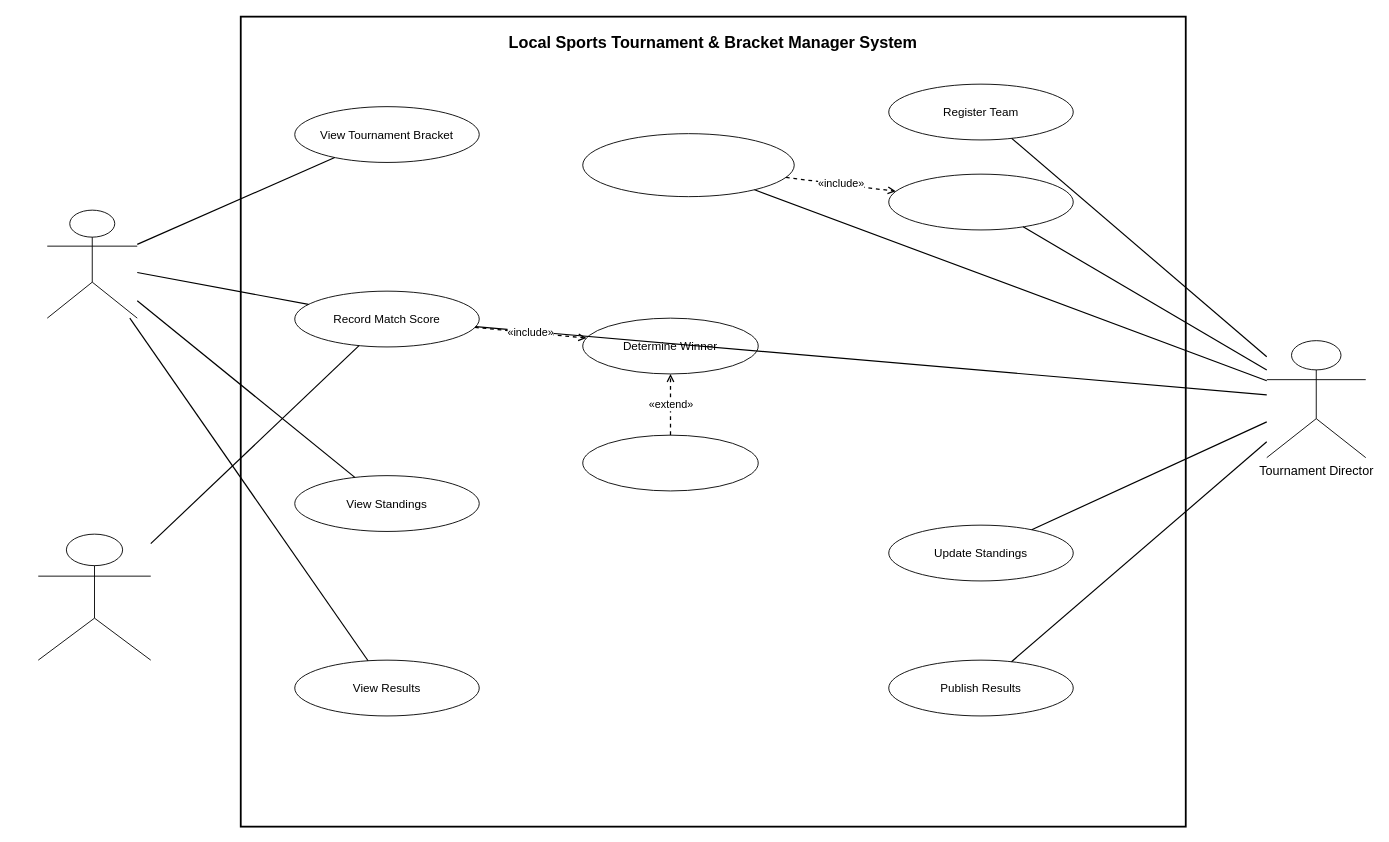
This 1389x842 diagram has some shape labels left out. Each missing label, with the centre of its shape:
Apply Tiebreaker: point (670, 462)
Assign Seeds: point (980, 201)
Generate Tournament Bracket: point (688, 165)
Match Official / Scorekeeper: point (94, 596)
Team Captain: point (91, 263)
